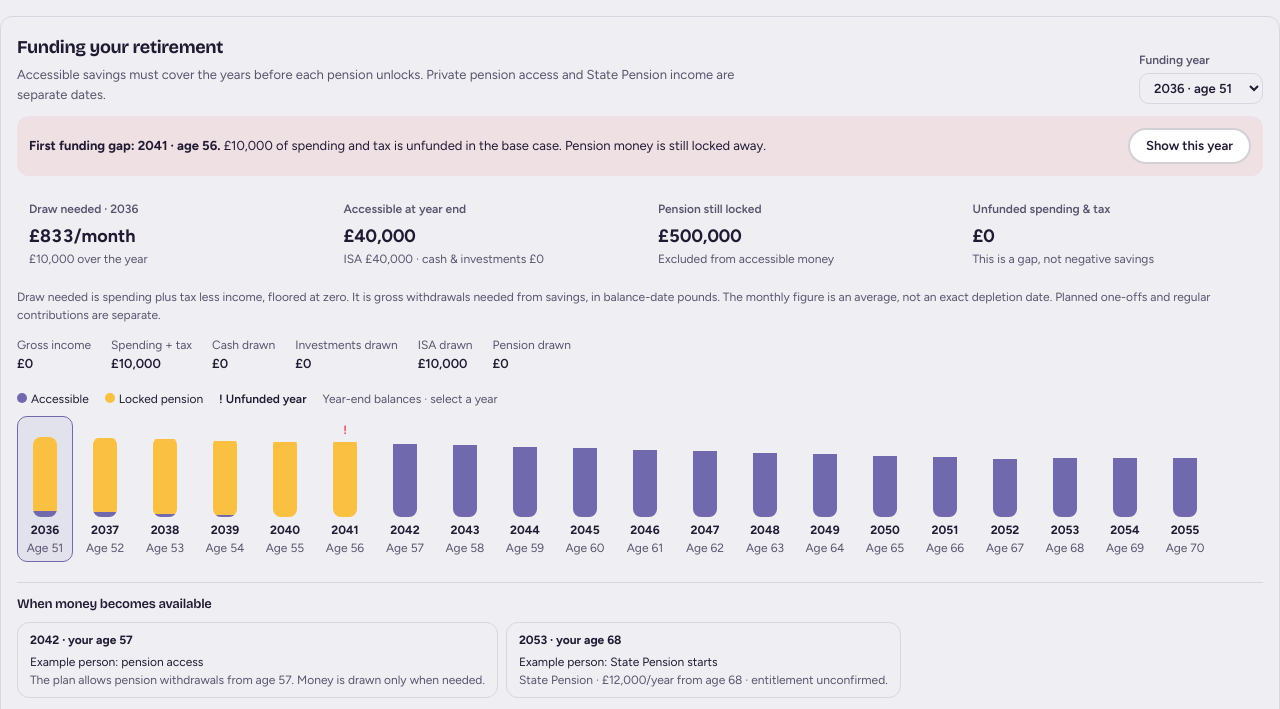
retirement funding visibility › exposes the bridge gap and locked money, then shows private pension and State Pension separately
Expected: the message shows "2041", [138,138,168,153]
Expected: the message shows "£10,000", [224,138,273,153]
Click the button with aria-label "Show first funding gap".
click(1190, 146)  # box [1128,128,1251,164]
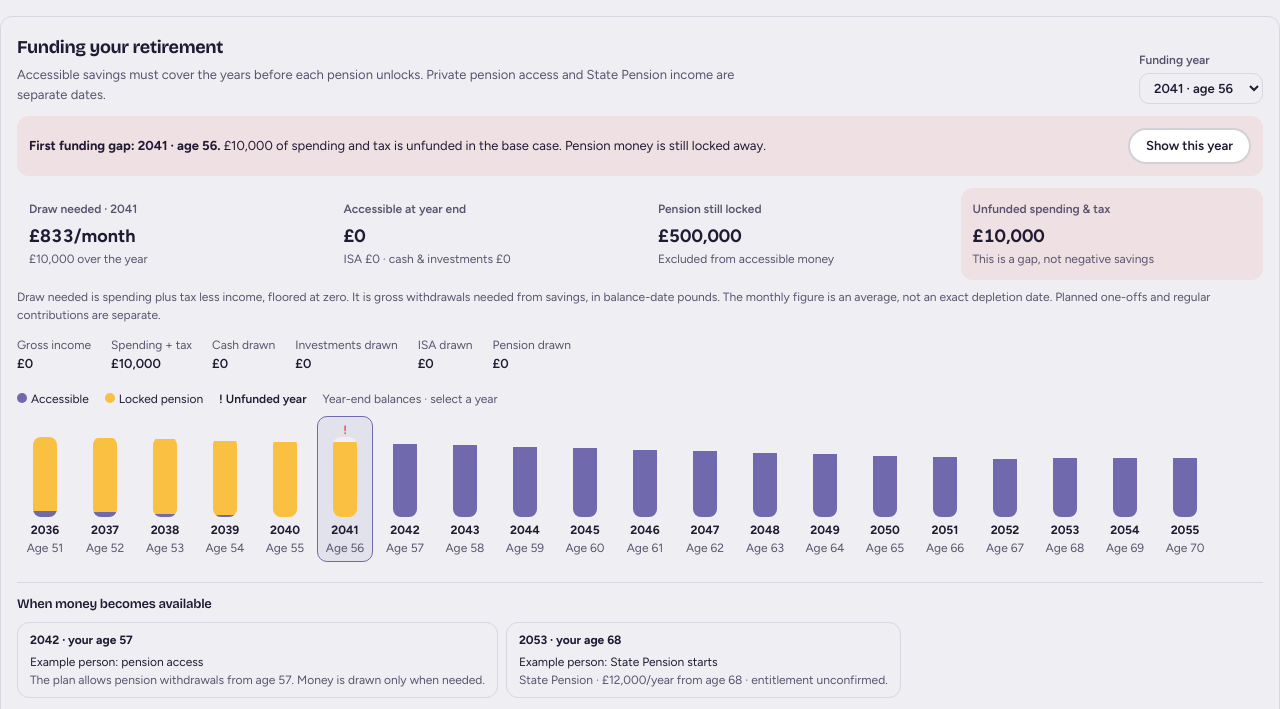
Expected: the text "£500,000" is shown, [658,225,742,247]
Now the dropdown labelled "Funding year" shows "2041 · age 56", box [1139,73,1263,104]
Click the button with aria-label "2042: Example person: pension access".
click(89, 640)  # box [17,622,498,698]
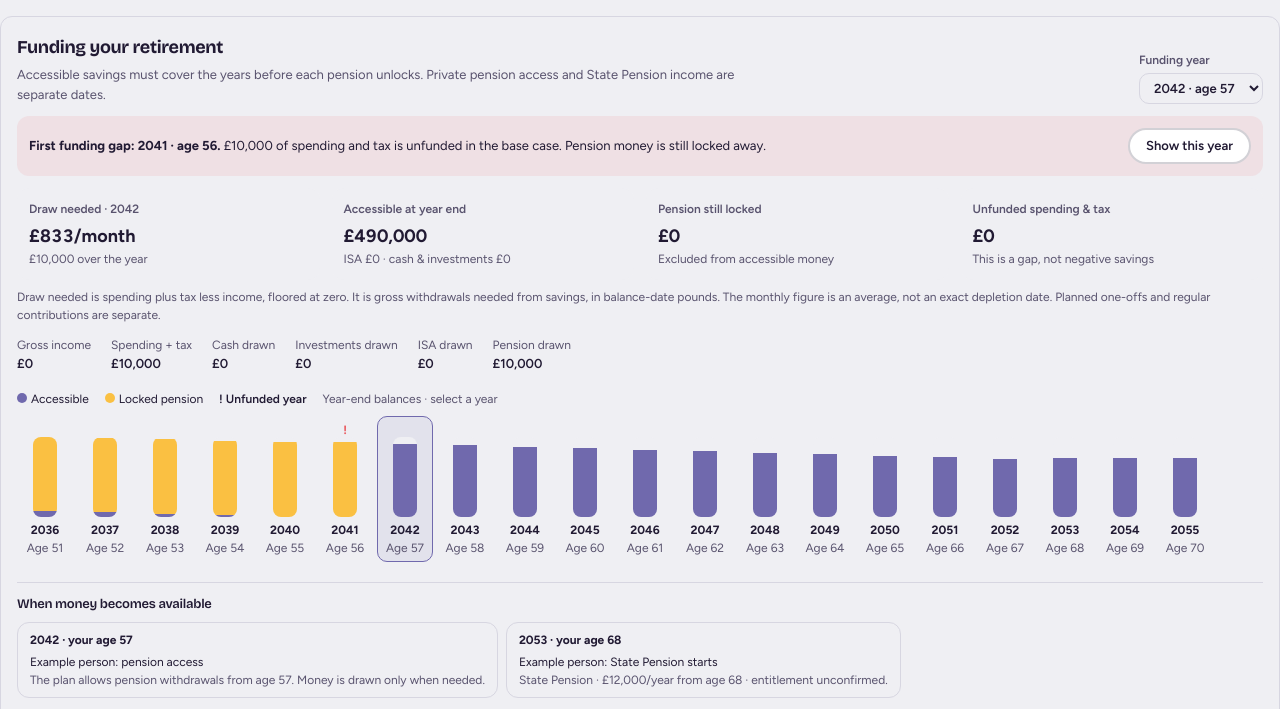
Now the dropdown labelled "Funding year" shows "2042 · age 57", box [1139,73,1263,104]
Now the text named "Pension withdrawals" reads "£10,000", box [493,356,542,371]
Now the text named "Unfunded spending and tax" reads "£0", box [972,225,995,247]
